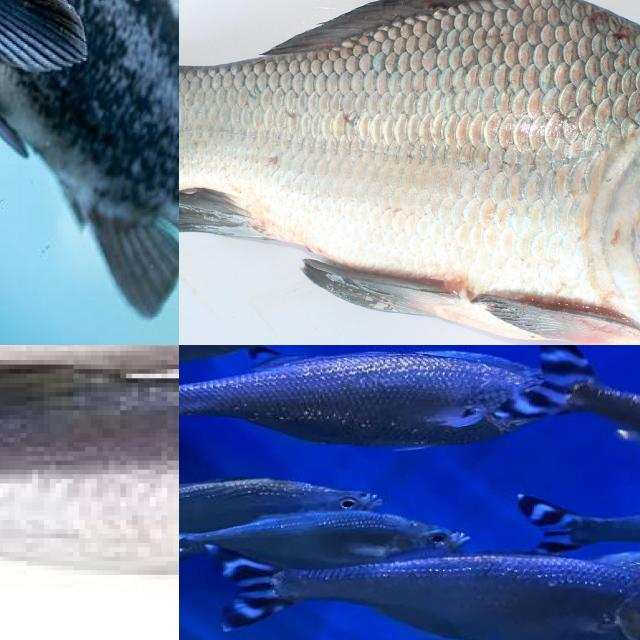fish: (179, 0, 640, 345), (0, 0, 179, 345)
